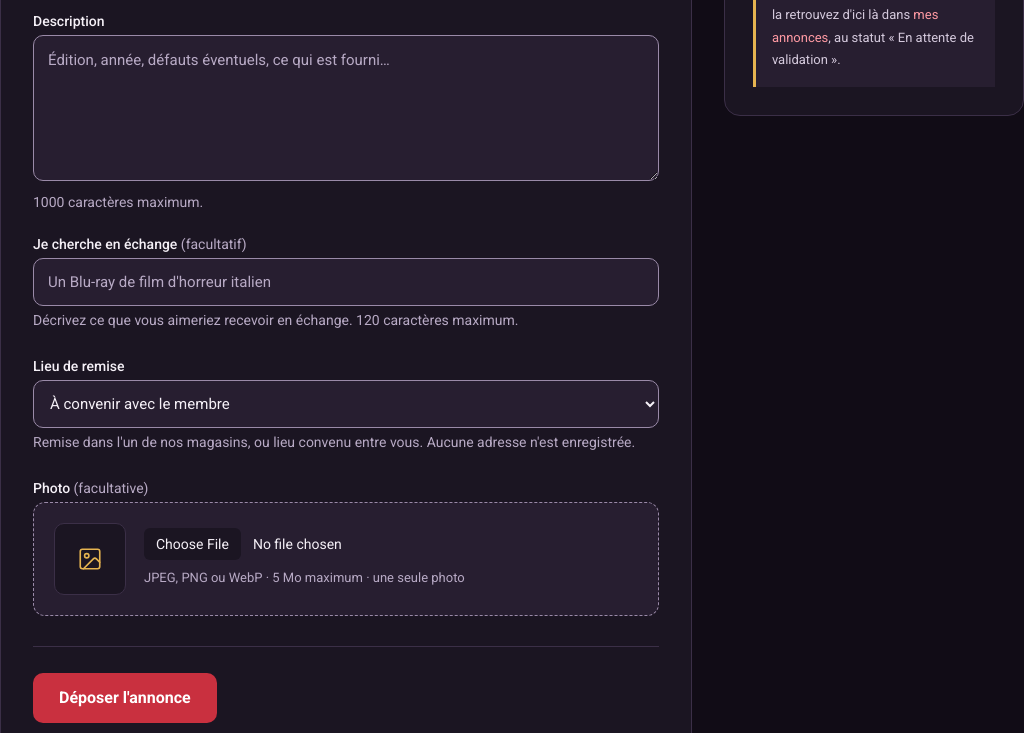
Test: ListingForm › erreurs › affiche un message générique quand l'erreur ne vient pas de l'API (réseau coupé)
The width and height of the screenshot is (1024, 733).
(page scrolled)
Click the button "Déposer l'annonce": coordinates (125, 698) [33,672,217,722]
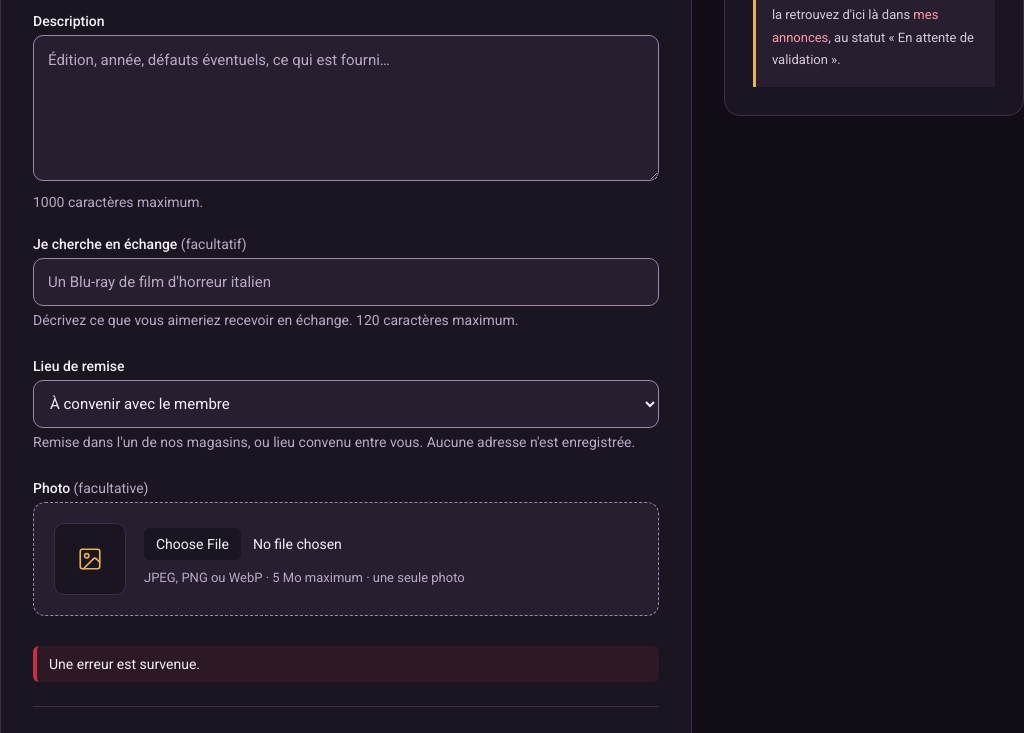
Check: the message reads "Une erreur est survenue.", box [49,656,200,672]
